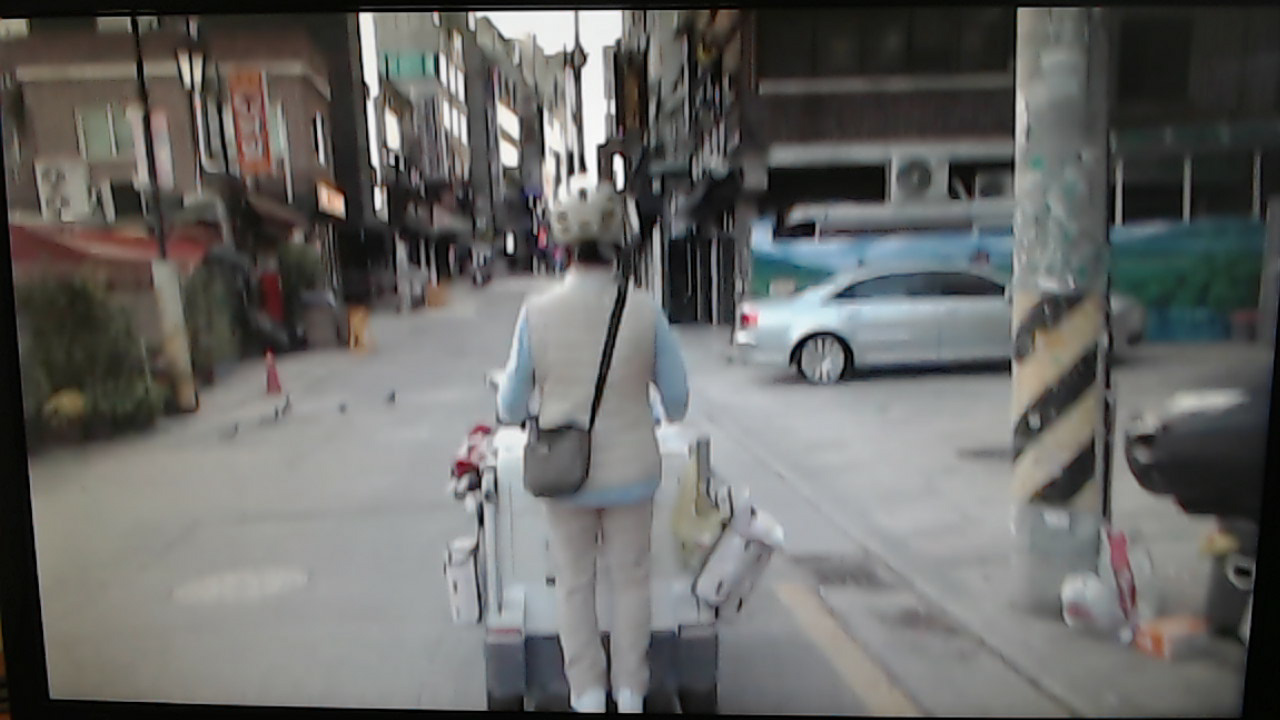Yakurut: (490, 170, 707, 711)
